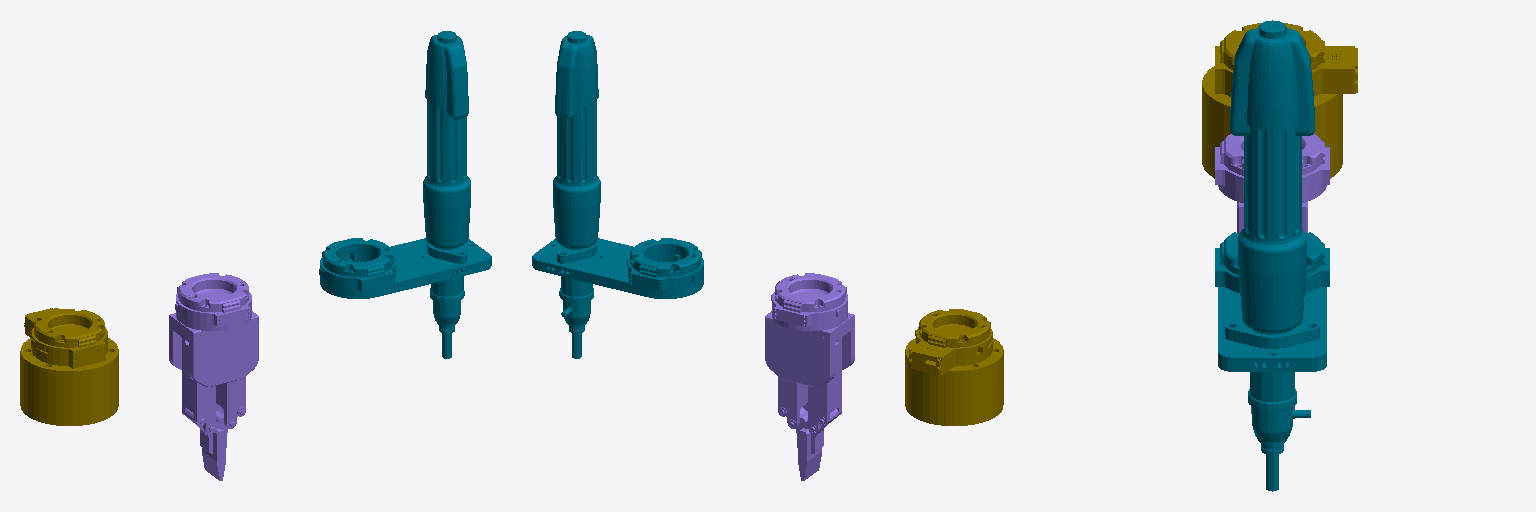
URDF robot description (base_ETC):
<?xml version="1.0" encoding="UTF-8"?>
<robot name="base_ETC">
	<link name="world" />
	<link name="base_ETC">
		<visual>
			<geometry>
				<mesh filename="package://keti_workcell_description/meshes/base2.STL" />
			</geometry>
			<material name="">
				<color rgba="0.89 0.91 0.93 1" />
			</material>
		</visual>
	</link>
	<link name="feeder">
		<visual>
			<geometry>
				<mesh filename="package://keti_workcell_description/meshes/feeder.STL" />
			</geometry>
			<material name="">
				<color rgba="0.29 0.61 0.93 1" />
			</material>
		</visual>
	</link>
	<link name="tool_stand">
		<visual>
			<geometry>
				<mesh filename="package://keti_workcell_description/meshes/tool_stand.STL" />
			</geometry>
			<material name="">
				<color rgba="0.5 0.5 0.5 1" />
			</material>
		</visual>
	</link>
	<link name="koras_2f_stand">
		<visual>
			<geometry>
				<mesh filename="package://keti_workcell_description/meshes/koras_2f.STL" />
			</geometry>
			<material name="">
				<color rgba="0.6 0.5 0.9 1" />
			</material>
		</visual>
	</link>
	<link name="KRVG_stand">
		<visual>
			<geometry>
				<mesh filename="package://keti_workcell_description/meshes/KRVG.STL" />
			</geometry>
			<material name="">
				<color rgba="0.6 0.5 0.0 1" />
			</material>
		</visual>
	</link>
	<link name="ATC_stand">
		<visual>
			<geometry>
				<mesh filename="package://keti_workcell_description/meshes/ATC.STL" />
			</geometry>
			<material name="">
				<color rgba="0.0 0.5 0.6 1" />
			</material>
		</visual>
	</link>
	<joint name="world_to_base_ETC" type="fixed">
		<origin xyz="-0.80481 0 -0.0135" rpy="0 0 0" />
		<parent link="world" />
		<child link="base_ETC" />
	</joint>
	<joint name="feeder_fixed" type="fixed">
		<origin xyz="-0.24992 0.19561 0.8465" rpy="0 0 0" />
		<parent link="base_ETC" />
		<child link="feeder" />
	</joint>
	<joint name="tool_stand_fixed" type="fixed">
		<origin xyz="0.15008 0.14561 0.8465" rpy="0 0 -1.5708" />
		<parent link="base_ETC" />
		<child link="tool_stand" />
	</joint>
	<joint name="koras_2f_stand_fixed" type="fixed">
		<origin xyz="-0.12582 0 0.312" rpy="3.1416 0 1.5709" />
		<parent link="tool_stand" />
		<child link="koras_2f_stand" />
	</joint>
	<joint name="KRVG_stand_fixed" type="fixed">
		<origin xyz="-0.12582 -0.1525 0.3125" rpy="3.1416 0 1.5709" />
		<parent link="tool_stand" />
		<child link="KRVG_stand" />
	</joint>
	<joint name="ATC_stand_fixed" type="fixed">
		<origin xyz="-0.1258 0.1525 0.314" rpy="3.1416 0 1.5709" />
		<parent link="tool_stand" />
		<child link="ATC_stand" />
	</joint>
</robot>

--- Render facts (derived) ---
3 views of the same robot in one strip: view 1: azimuth 30°, elevation 25°; view 2: azimuth 150°, elevation 25°; view 3: azimuth 270°, elevation 25° (orthographic).
Robot: base_ETC — 7 links, 6 joints (6 fixed); root link world; default pose: all joints at 0.
Links seen in each view (by area): view 1: ATC_stand, koras_2f_stand, KRVG_stand; view 2: ATC_stand, koras_2f_stand, KRVG_stand; view 3: ATC_stand, KRVG_stand, koras_2f_stand.
Boxes of the visible links, x1,y1,x2,y2 form: ATC_stand: (319,31,491,358); koras_2f_stand: (169,273,258,480); KRVG_stand: (20,308,118,425); ATC_stand: (532,31,703,358); koras_2f_stand: (765,273,854,480); KRVG_stand: (905,309,1003,425); ATC_stand: (1215,20,1329,491); KRVG_stand: (1202,23,1357,178); koras_2f_stand: (1215,134,1329,413).
Size in the robot's own frame: 0.475 by 0.0995 by 0.3875 metres.
Meshes: 6 distinct files referenced, 3 mesh visuals loaded (3 binary STL); not drawn: 3 (reference not matched to a file when rendering).